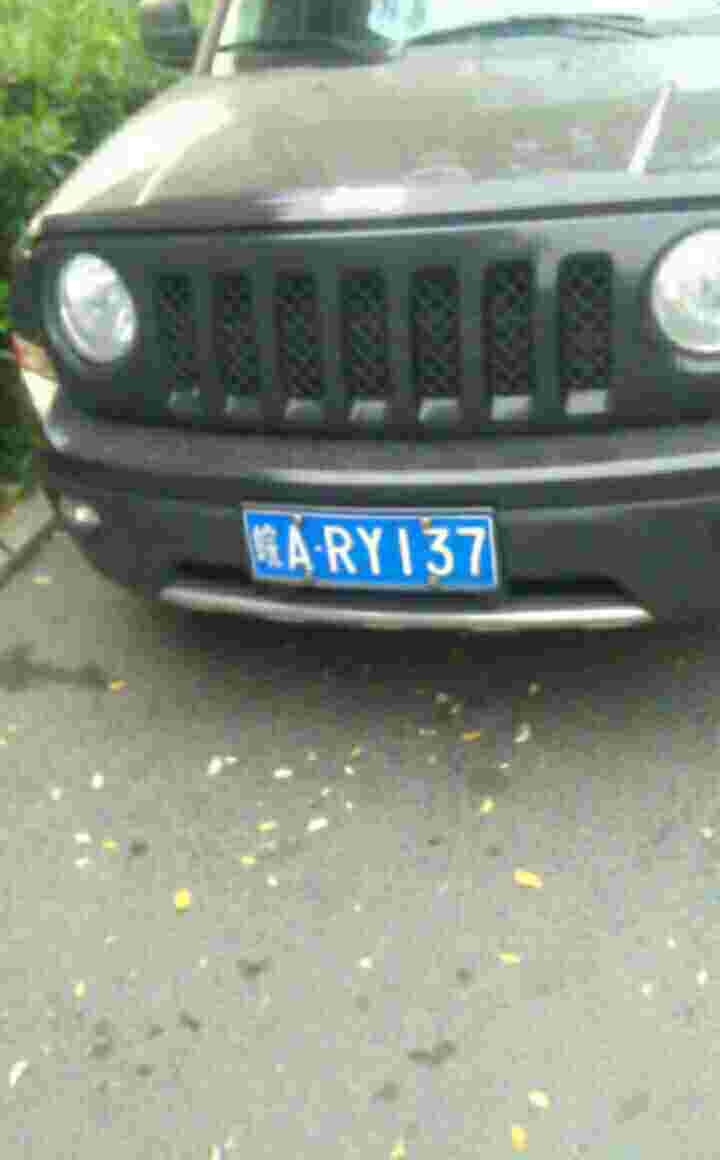license_plate: (252, 506, 501, 594)
